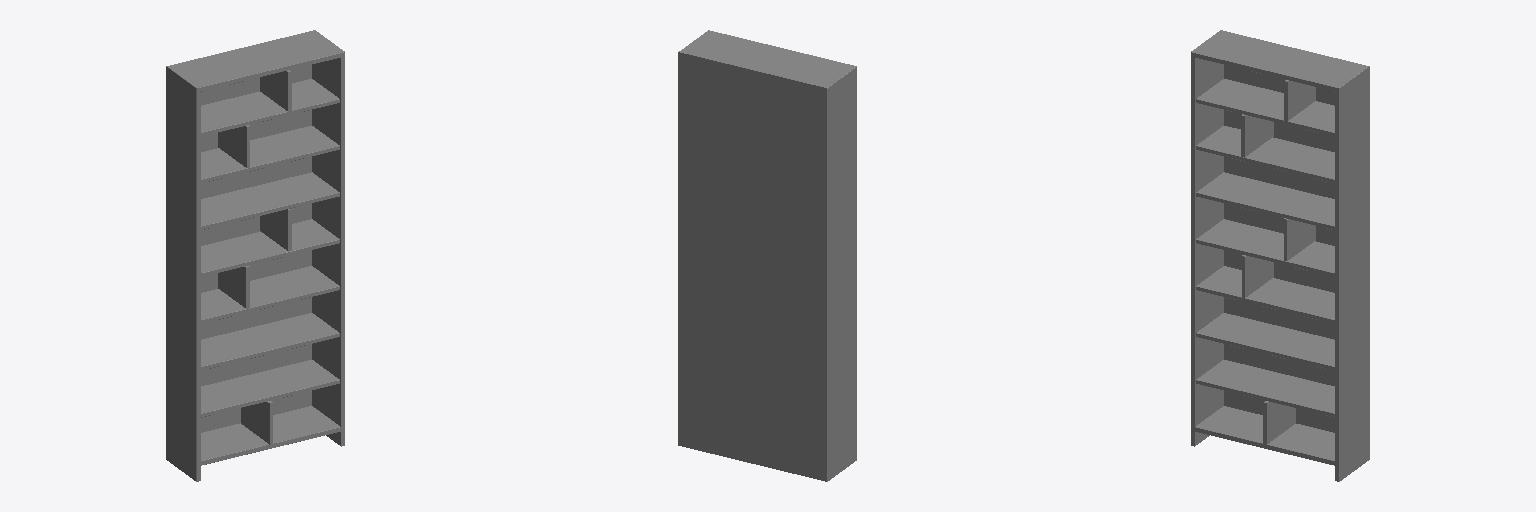
Rendered from librero.obj.
3 views of the same model, side by side, from view 1: azimuth 30°, elevation 25°; view 2: azimuth 150°, elevation 25°; view 3: azimuth 330°, elevation 25° (orthographic).
Parts seen in each view (by area): view 1: bookcase, Box004, Box005, Box003, Box001, Box002; view 2: bookcase; view 3: bookcase, Box004, Box001, Box005, Box003, Box002.
Boxes of the visible parts, x1=… form: bookcase: x1=166, y1=30, x2=344, y2=481; Box004: x1=241, y1=401, x2=272, y2=444; Box005: x1=218, y1=266, x2=249, y2=308; Box003: x1=260, y1=209, x2=291, y2=251; Box001: x1=218, y1=125, x2=249, y2=167; Box002: x1=260, y1=70, x2=291, y2=113; bookcase: x1=678, y1=30, x2=856, y2=481; bookcase: x1=1191, y1=30, x2=1369, y2=481; Box004: x1=1263, y1=401, x2=1295, y2=444; Box001: x1=1241, y1=114, x2=1273, y2=157; Box005: x1=1242, y1=255, x2=1273, y2=297; Box003: x1=1284, y1=218, x2=1315, y2=260; Box002: x1=1284, y1=80, x2=1315, y2=122.
Bounding box in the file's own units: 28.21 × 71.23 × 9.89.